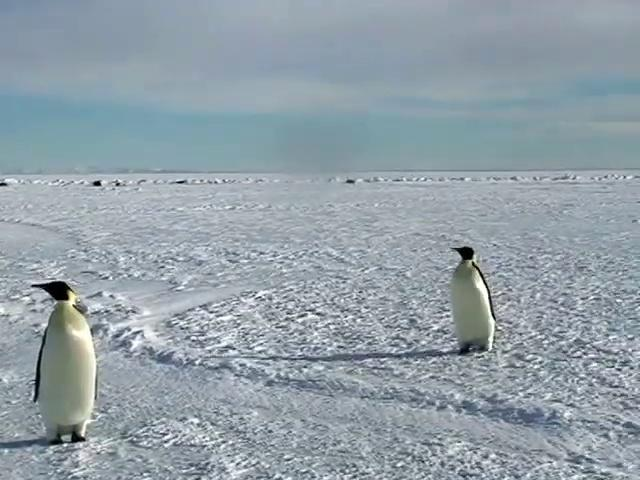animal: (33, 281, 96, 443)
